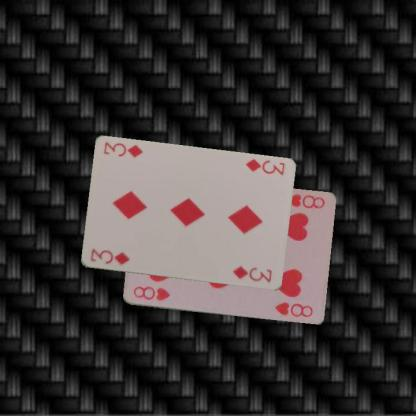3d: (242, 156, 286, 177), (88, 246, 130, 266)
8h: (284, 192, 326, 210), (131, 284, 171, 302)
